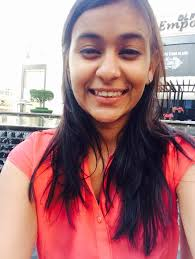Human_Female: (59, 3, 160, 259)
